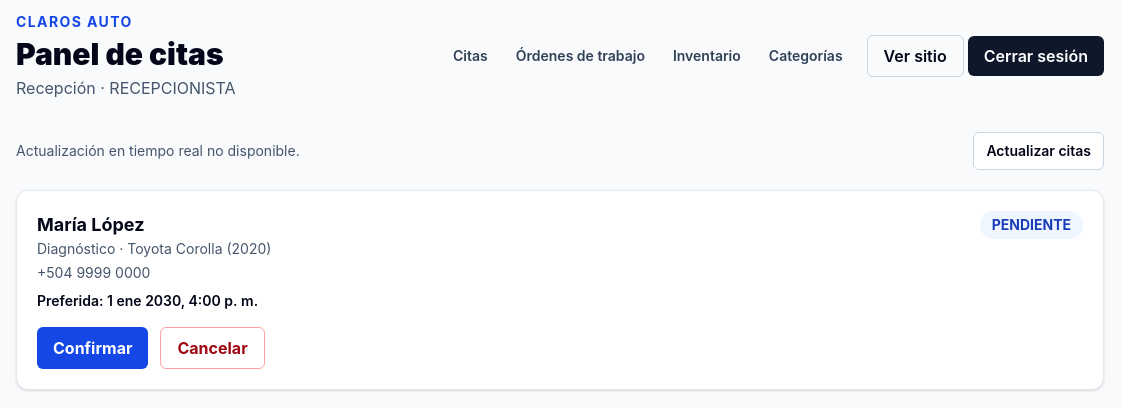
panel administrativo › envía la confirmación al API y actualiza el estado presentado
Click the button "Confirmar" at (93, 348), box [37,327,148,369]
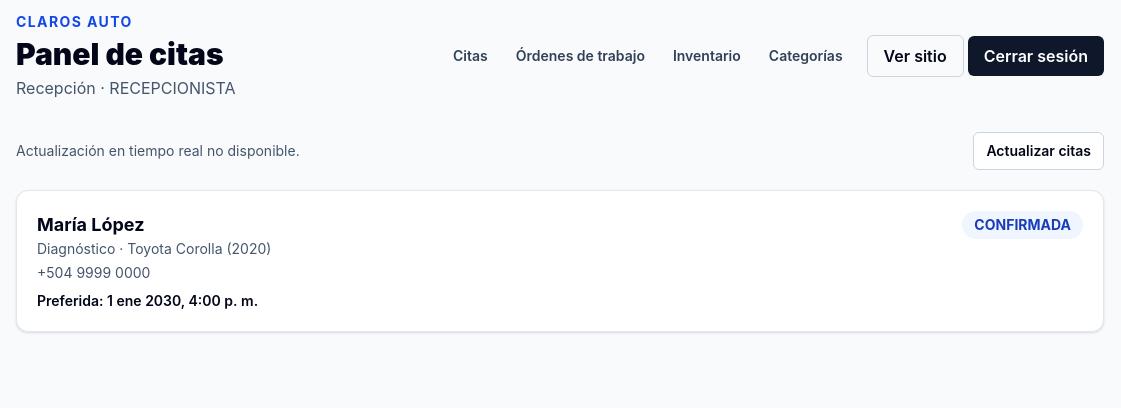
Now the text "CONFIRMADA" is shown, box [962,211,1083,239]
